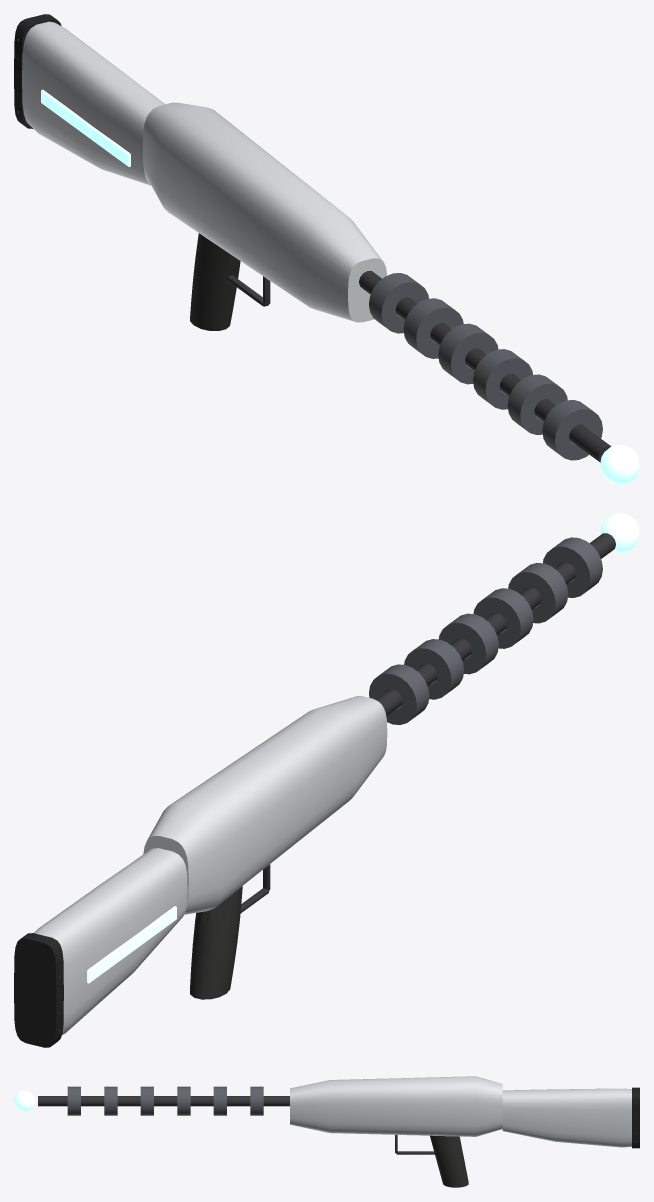
File: sparkvine.glb
3 views of the same model, one above another, from view 1: azimuth 30°, elevation 25°; view 2: azimuth 150°, elevation 25°; view 3: azimuth 270°, elevation 25° (orthographic). The views are drawn at different scales.
Parts seen in each view (by area): view 1: Body; view 2: Body; view 3: Body.
Part boxes in pixels (x1,y1,x2,y2): Body: (14, 14, 639, 484); Body: (14, 513, 639, 1047); Body: (14, 1076, 639, 1187).
Size of the model in its own units: 0.06 by 0.1727 by 0.943.
